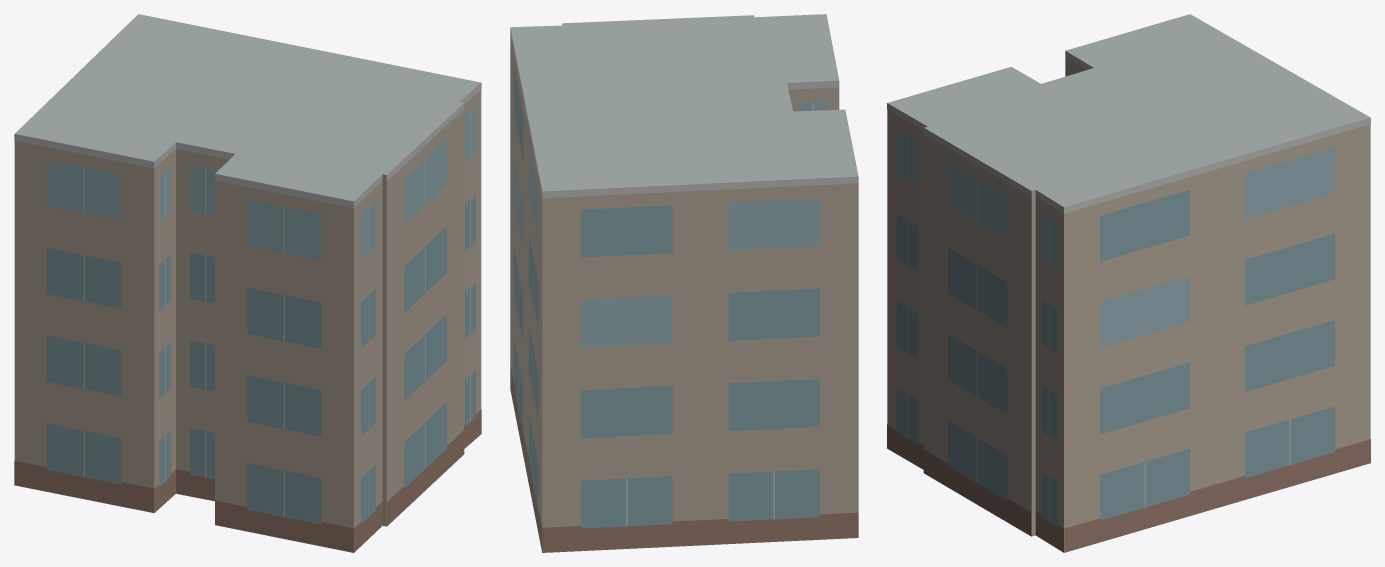
File: survey-upis-32669930.glb
3 renders of one model, left to right at view 1: azimuth 30°, elevation 25°; view 2: azimuth 150°, elevation 25°; view 3: azimuth 270°, elevation 25°, orthographic. The views are drawn at different scales.
Visible parts, largest first — view 1: survey-upis-32669930.tmp; view 2: survey-upis-32669930.tmp; view 3: survey-upis-32669930.tmp.
Boxes of the visible parts, x1=… form: survey-upis-32669930.tmp: x1=14, y1=14, x2=481, y2=552; survey-upis-32669930.tmp: x1=510, y1=14, x2=858, y2=552; survey-upis-32669930.tmp: x1=887, y1=14, x2=1370, y2=552.
Size of the model in its own units: 15.48 by 12.9 by 16.37.
